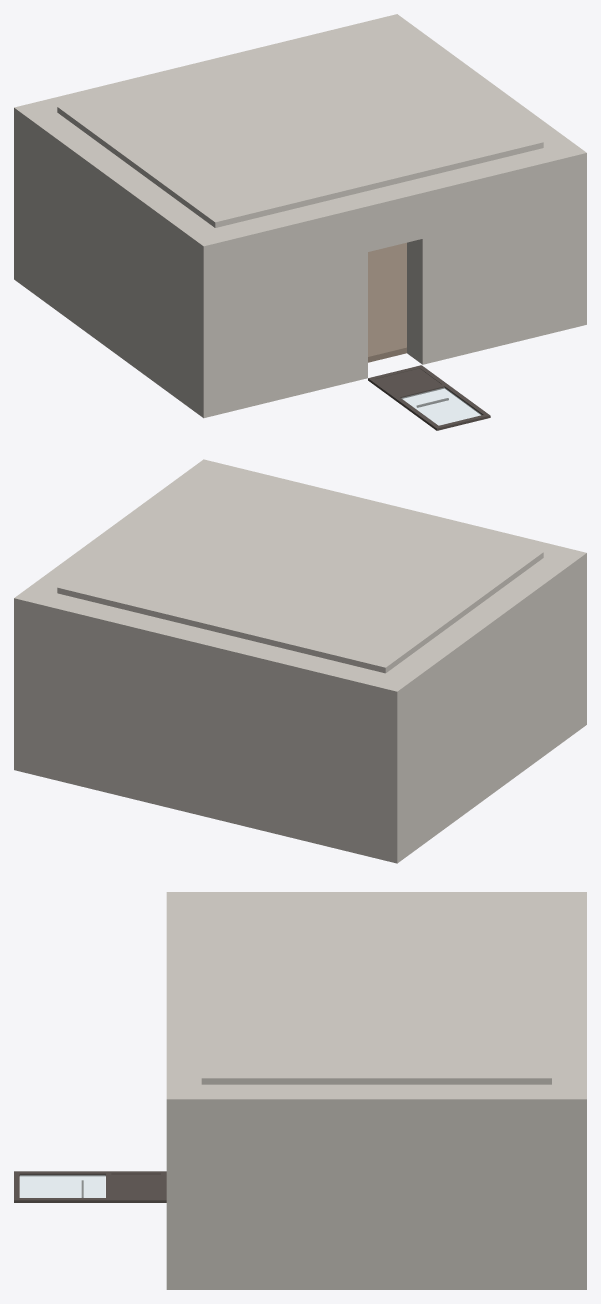
The model's file is CafeRoom.fbx.
The picture shows the model from 3 angles, top to bottom: view 1: azimuth 30°, elevation 25°; view 2: azimuth 150°, elevation 25°; view 3: azimuth 270°, elevation 25°; orthographic projection. The views are drawn at different scales.
Visible parts, largest first — view 1: RoomCeiling, Wall_Left, Wall_Front_Right, Wall_Front_Left, Wall_Right, RoomFloor, Wall_Back, Wall_Front_Lintel, Door_Glass, Door_KickPanel; view 2: Wall_Back, RoomCeiling, Wall_Left, Wall_Right, Wall_Front_Left, Wall_Front_Right, Wall_Front_Lintel; view 3: Wall_Right, RoomCeiling, Wall_Back, Wall_Left, Wall_Front_Right, Wall_Front_Left, Door_Glass, Door_KickPanel, Wall_Front_Lintel, Door_Stile_Hinge, Door_Stile_Latch.
Boxes of the visible parts, x1=… form: RoomCeiling: x1=57, y1=26, x2=543, y2=227; Wall_Left: x1=14, y1=101, x2=230, y2=418; Wall_Front_Right: x1=407, y1=148, x2=559, y2=364; Wall_Front_Left: x1=215, y1=195, x2=367, y2=411; Wall_Right: x1=370, y1=14, x2=586, y2=331; RoomFloor: x1=368, y1=242, x2=406, y2=362; Wall_Back: x1=42, y1=20, x2=379, y2=111; Wall_Front_Lintel: x1=352, y1=181, x2=422, y2=251; Door_Glass: x1=401, y1=387, x2=481, y2=425; Door_KickPanel: x1=375, y1=368, x2=441, y2=395; Wall_Back: x1=41, y1=593, x2=385, y2=856; RoomCeiling: x1=57, y1=472, x2=543, y2=673; Wall_Left: x1=370, y1=546, x2=586, y2=863; Wall_Right: x1=14, y1=459, x2=230, y2=776; Wall_Front_Left: x1=413, y1=513, x2=559, y2=557; Wall_Front_Right: x1=221, y1=466, x2=367, y2=506; Wall_Front_Lintel: x1=358, y1=499, x2=422, y2=519; Wall_Right: x1=166, y1=1084, x2=586, y2=1289; RoomCeiling: x1=201, y1=900, x2=551, y2=1084; Wall_Back: x1=552, y1=907, x2=586, y2=1084; Wall_Left: x1=166, y1=892, x2=586, y2=906; Wall_Front_Right: x1=166, y1=1010, x2=201, y2=1084; Wall_Front_Left: x1=166, y1=907, x2=201, y2=980; Door_Glass: x1=20, y1=1175, x2=105, y2=1197; Door_KickPanel: x1=111, y1=1174, x2=160, y2=1197; Wall_Front_Lintel: x1=166, y1=981, x2=201, y2=1010; Door_Stile_Hinge: x1=14, y1=1171, x2=166, y2=1176; Door_Stile_Latch: x1=14, y1=1198, x2=166, y2=1202.
Size of what is drawn, in the model's own units: 7 by 3.17 by 8.18.
